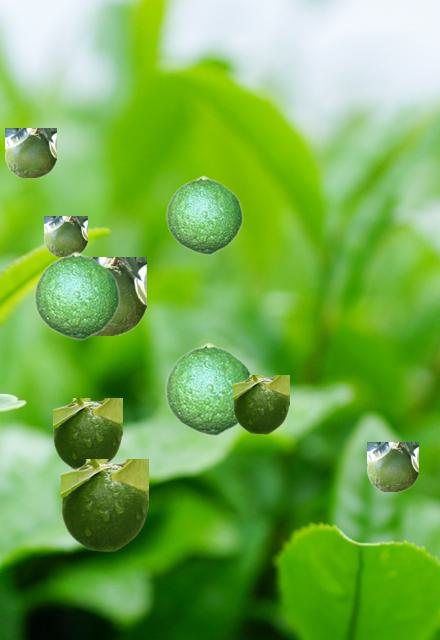dalandan: (164, 342, 252, 435), (61, 459, 147, 550), (33, 251, 119, 339), (165, 175, 242, 254), (53, 398, 121, 468), (93, 257, 145, 334), (233, 375, 288, 433), (367, 442, 417, 490), (5, 128, 55, 176), (44, 216, 86, 255)
